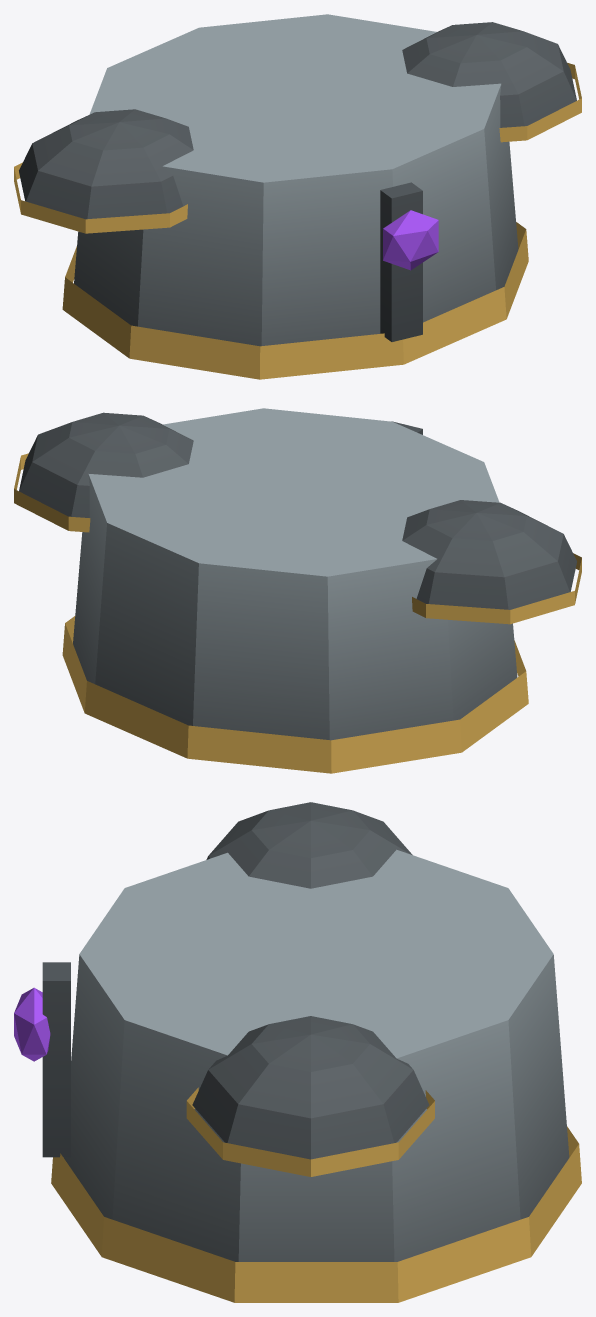
Rendered from berserker_guard_chest_t3.glb.
3 renders of one model, top to bottom at view 1: azimuth 30°, elevation 25°; view 2: azimuth 150°, elevation 25°; view 3: azimuth 270°, elevation 25°, orthographic. The views are drawn at different scales.
Visible parts, largest first — view 1: berserker_guard_chest_t3__chest; view 2: berserker_guard_chest_t3__chest; view 3: berserker_guard_chest_t3__chest.
Boxes of the visible parts, x1,y1,x2,y2 form: berserker_guard_chest_t3__chest: (14, 14, 581, 379); berserker_guard_chest_t3__chest: (14, 408, 581, 773); berserker_guard_chest_t3__chest: (14, 802, 581, 1302).
Bounding box in the file's own units: 2.98 × 1.07 × 2.16.
2 materials, 1 textured.
